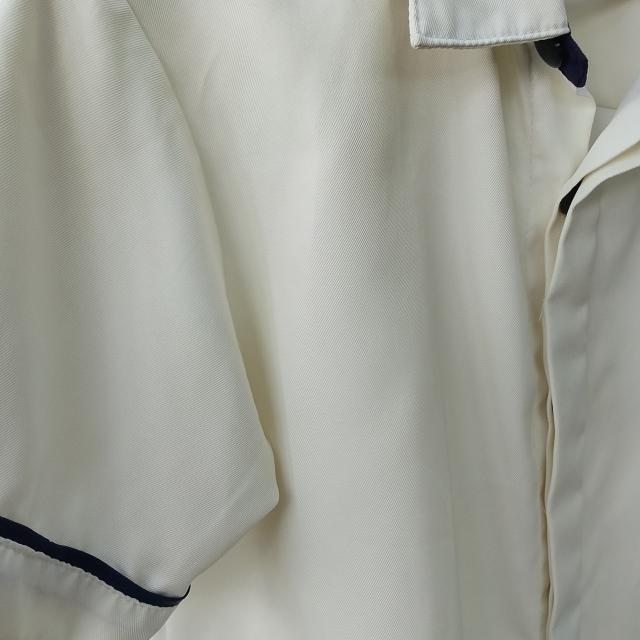education_male_uniform: (0, 8, 640, 640), (0, 0, 298, 623)
